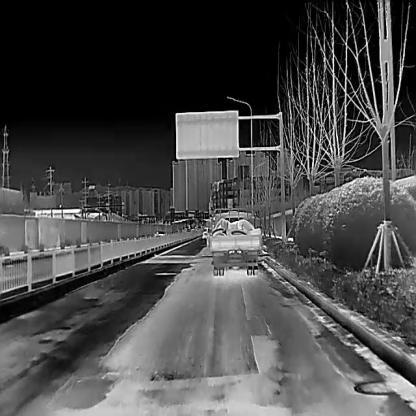car: (209, 207, 261, 276), (153, 229, 167, 237)
